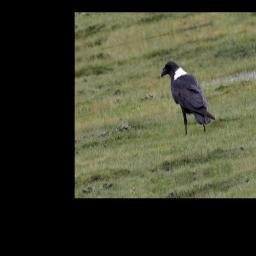Crow: (159, 53, 217, 139)
